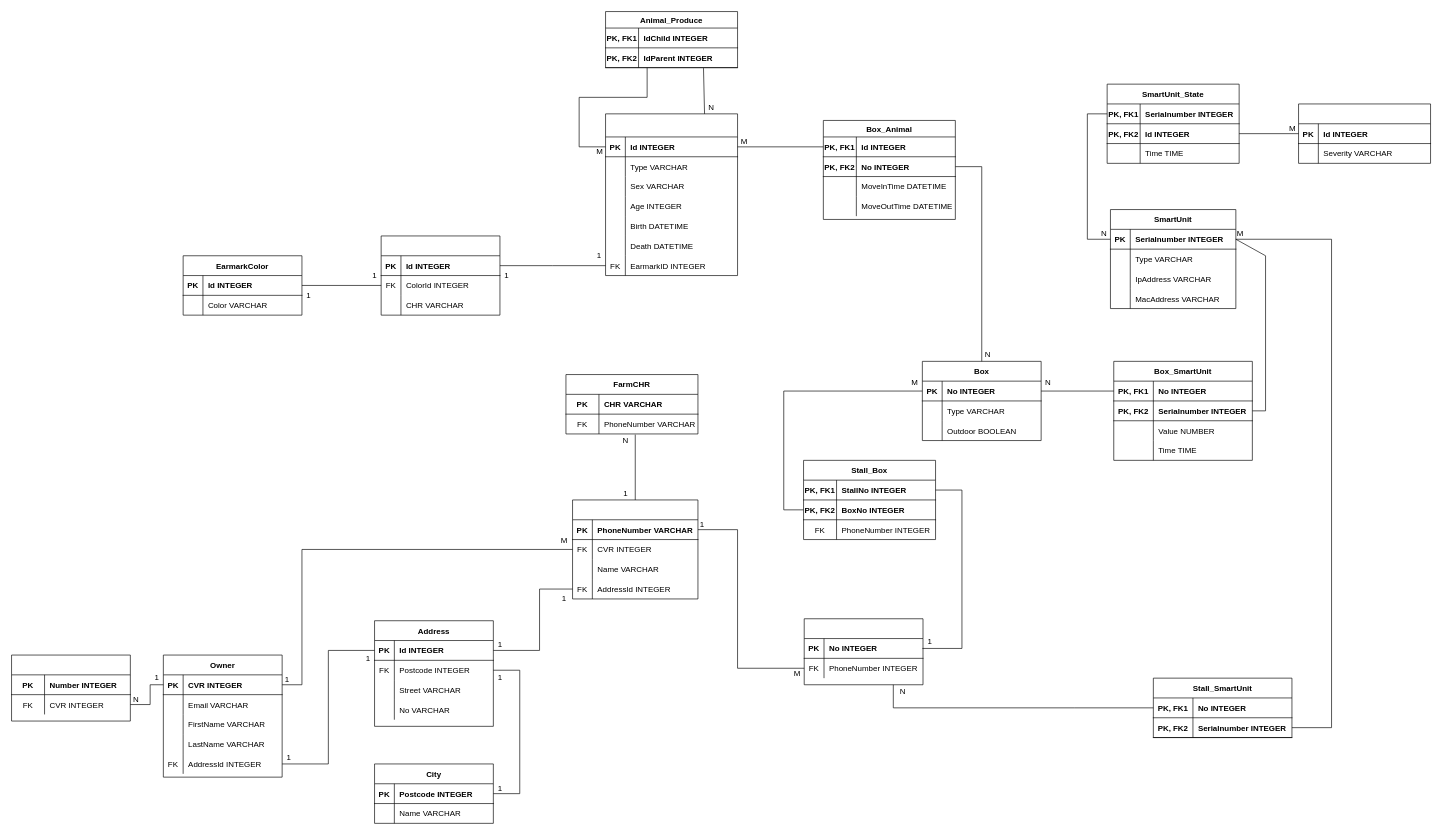
This 1442x835 diagram has some shape labels left out. Here are the shapes that lost their labels. From the top down, the box of each, then its label:
(1298, 103, 1431, 163): State
(605, 113, 738, 276): Animal
(380, 235, 500, 315): Earmark
(572, 499, 698, 599): Farm
(804, 618, 923, 685): Stall
(11, 654, 130, 721): Phone
